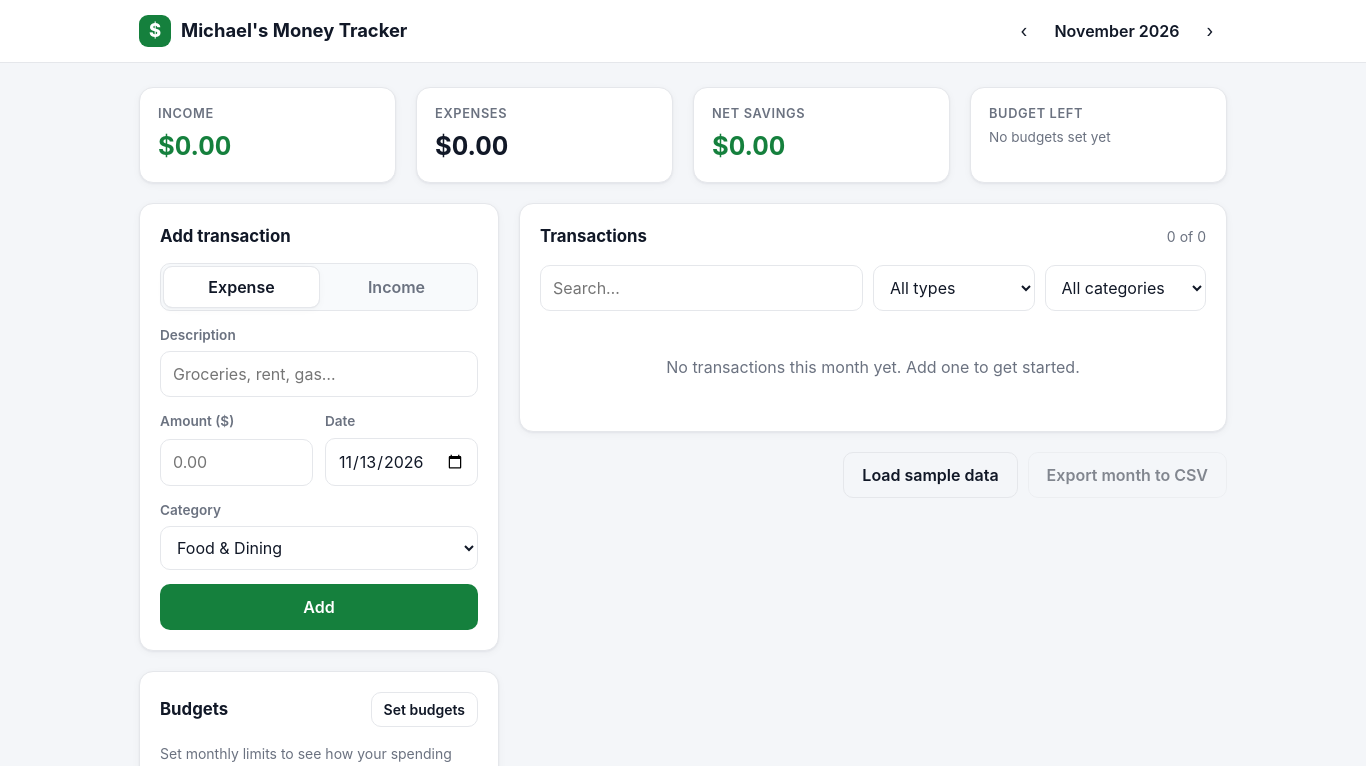
shows an error instead of adding an empty transaction
Click the button "Add" at (319,607), box [160,584,478,630]
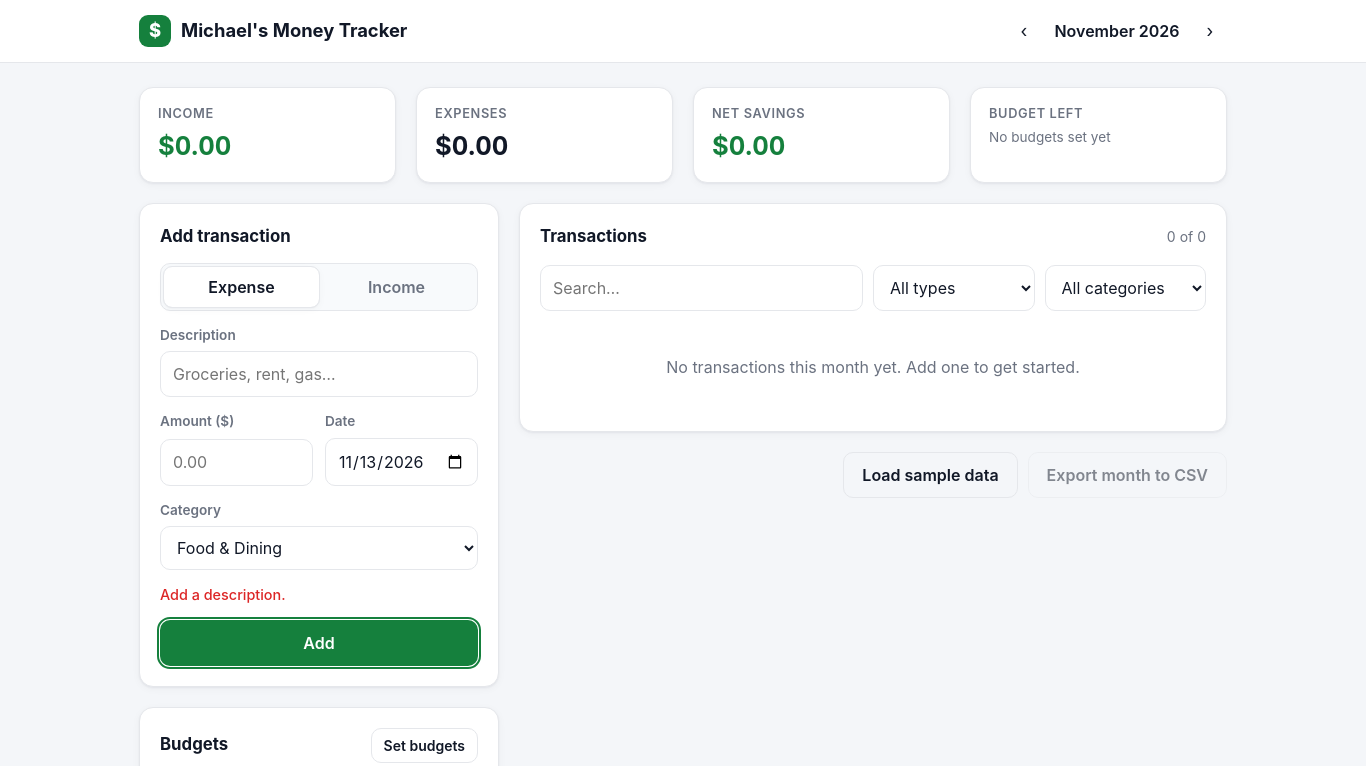
Check: the message reads "Add a description.", box [160,586,286,603]
